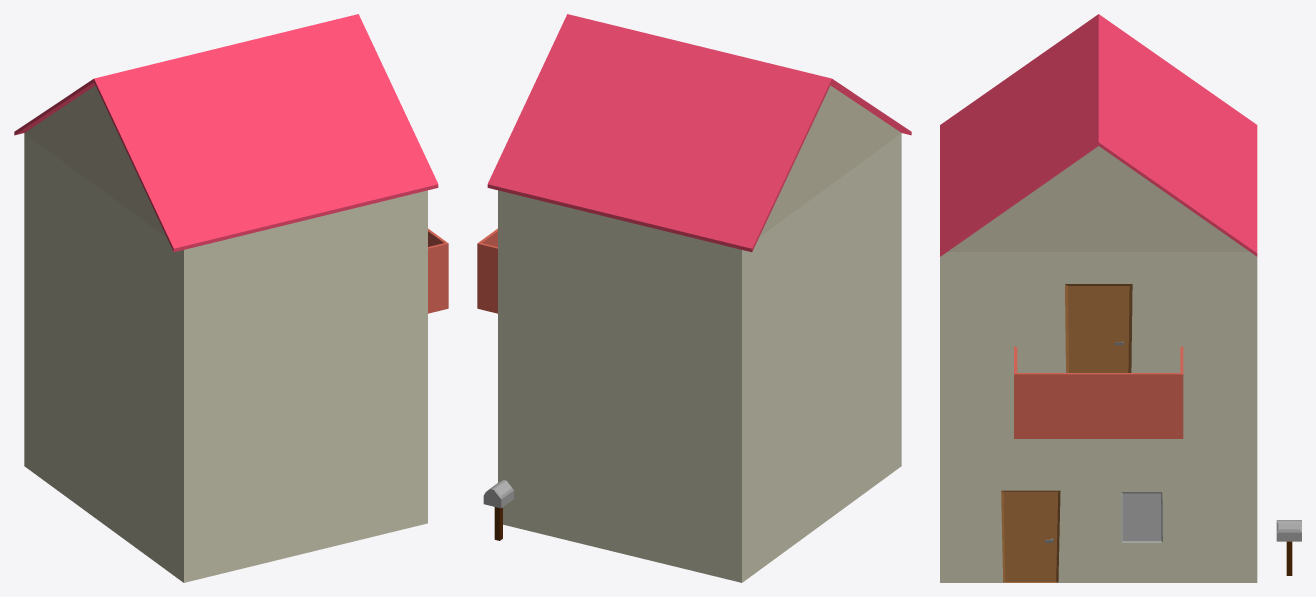
Rendered from house.gltf.
3 views of the same model, side by side, from view 1: azimuth 30°, elevation 25°; view 2: azimuth 150°, elevation 25°; view 3: azimuth 270°, elevation 25° (orthographic).
Visible parts, largest first — view 1: walls, Roof, roof wall, balcony; view 2: walls, Roof, roof wall, balcony, mail box; view 3: walls, Roof, roof wall, balcony, doors, Window, mail box.
Part boxes in pixels (<box>): walls: <box>24,133,427,582</box>; Roof: <box>14,14,438,252</box>; roof wall: <box>24,85,166,236</box>; balcony: <box>428,228,448,313</box>; walls: <box>498,133,901,582</box>; Roof: <box>487,14,911,252</box>; roof wall: <box>759,85,901,236</box>; balcony: <box>477,228,497,313</box>; mail box: <box>483,480,513,508</box>; walls: <box>940,252,1257,582</box>; Roof: <box>940,14,1257,256</box>; roof wall: <box>947,146,1249,251</box>; balcony: <box>1014,346,1183,438</box>; doors: <box>1001,284,1132,582</box>; Window: <box>1121,492,1162,542</box>; mail box: <box>1276,520,1301,541</box>.
Size of the model in its own units: 5.88 by 8.08 by 5.94.
